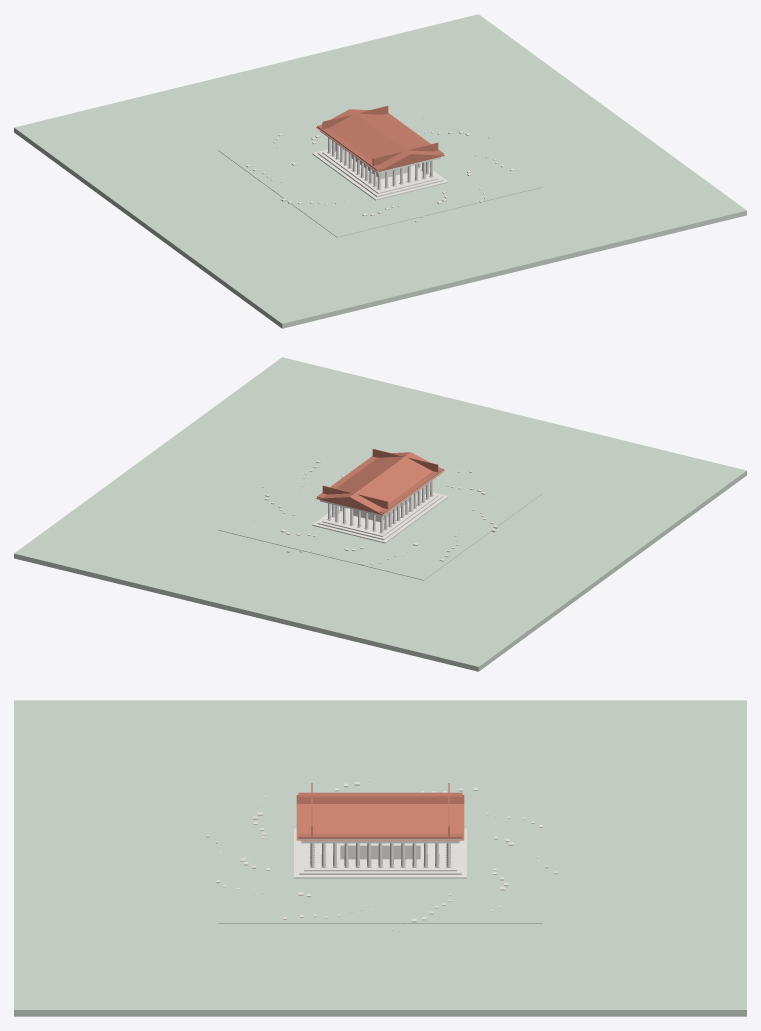
The model's file is temple.glb.
The picture shows the model from 3 angles, top to bottom: view 1: azimuth 30°, elevation 25°; view 2: azimuth 150°, elevation 25°; view 3: azimuth 270°, elevation 25°; orthographic projection. The views are drawn at different scales.
Parts seen in each view (by area): view 1: GreekTempleV2; view 2: GreekTempleV2; view 3: GreekTempleV2.
Boxes of the visible parts, x1,y1,x2,y2 form: GreekTempleV2: (14,14,746,328); GreekTempleV2: (14,357,746,671); GreekTempleV2: (14,700,746,1016).
Bounding box in the file's own units: 140 × 12.18 × 140.
